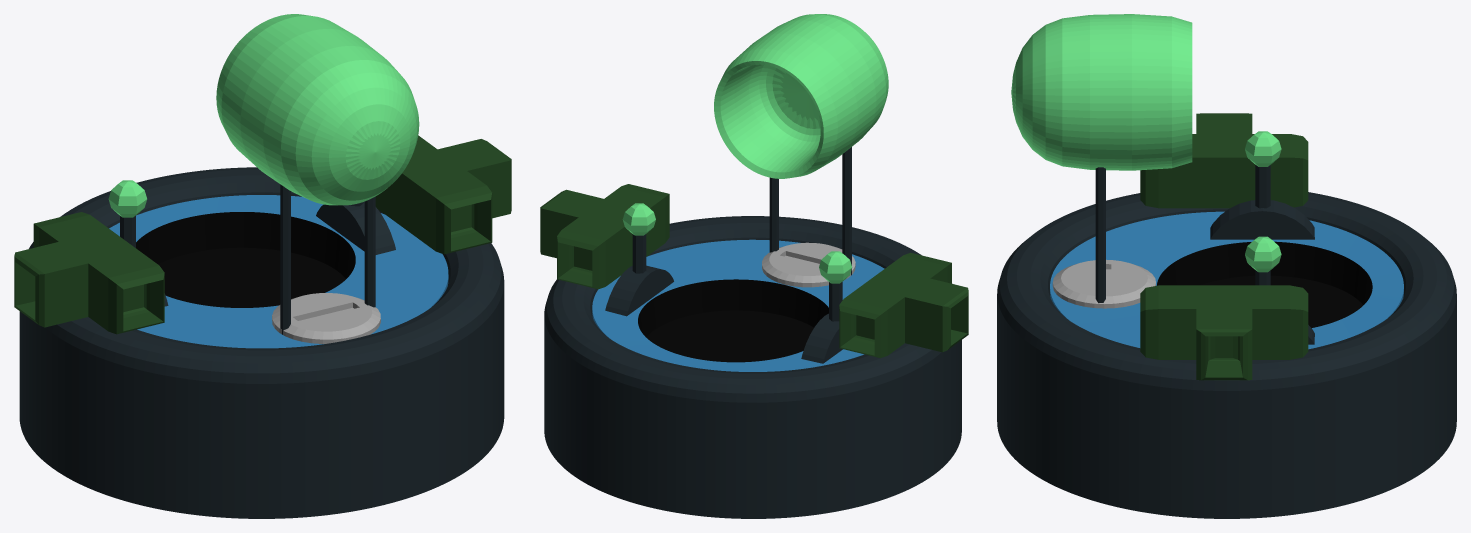
Rendered from PlayerShip.fbx.
3 renders of one model, left to right at view 1: azimuth 30°, elevation 25°; view 2: azimuth 150°, elevation 25°; view 3: azimuth 270°, elevation 25°, orthographic. The views are drawn at different scales.
Visible parts, largest first — view 1: Shell, Base, Cannon, LeftJets, RightJets, TurretBase, RightLeverBase, LeftTurretSupport, RightTurretSupport, LeftLeverKnob; view 2: Shell, Base, Cannon, LeftJets, RightJets, TurretBase, RightLeverBase, LeftLeverBase, LeftTurretSupport, LeftLeverKnob, RightLeverKnob, RightTurretSupport (+1 smaller); view 3: Shell, Cannon, Base, RightJets, LeftJets, TurretBase, LeftLeverBase, RightTurretSupport, RightLeverKnob, LeftLeverKnob, LeftLeverStick.
Part boxes in pixels (x1,y1,x2,y2): Shell: (19,167,504,518); Base: (109,195,448,348); Cannon: (216,14,419,205); LeftJets: (14,212,164,334); RightJets: (375,135,511,254); TurretBase: (272,293,380,343); RightLeverBase: (316,201,395,254); LeftTurretSupport: (280,184,290,334); RightTurretSupport: (364,196,375,307); LeftLeverKnob: (108,180,147,217); Shell: (544,216,961,518); Base: (592,239,884,371); Cannon: (714,14,888,178); LeftJets: (839,252,968,358); RightJets: (540,184,669,289); TurretBase: (762,242,855,287); RightLeverBase: (605,265,673,316); LeftLeverBase: (801,313,842,363); LeftTurretSupport: (842,147,851,275); LeftLeverKnob: (819,251,852,283); RightLeverKnob: (622,203,655,235); RightTurretSupport: (769,177,778,252); Shell: (997,192,1456,518); Cannon: (1011,14,1192,170); Base: (1050,211,1403,349); RightJets: (1140,285,1308,380); LeftJets: (1140,113,1308,208); TurretBase: (1052,259,1155,308); LeftLeverBase: (1210,200,1314,239); RightTurretSupport: (1095,167,1105,303); RightLeverKnob: (1245,236,1281,272); LeftLeverKnob: (1245,131,1281,166); LeftLeverStick: (1255,165,1270,208).
Size of the model in its own units: 1.13 by 1 by 0.9615.
